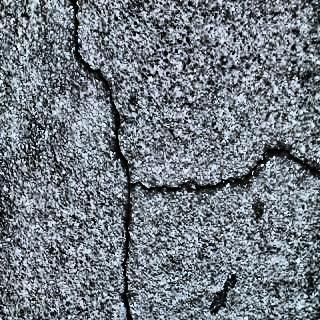crack: (70, 4, 136, 320), (136, 146, 320, 193)
